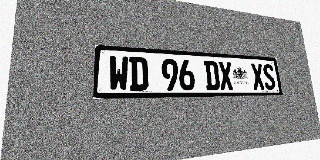6: (178, 59, 196, 90)
9: (161, 58, 179, 91)
D: (129, 56, 148, 91), (204, 61, 220, 90)
S: (262, 64, 276, 90)
W: (109, 55, 129, 91)
X: (218, 61, 234, 90), (250, 63, 265, 90)
